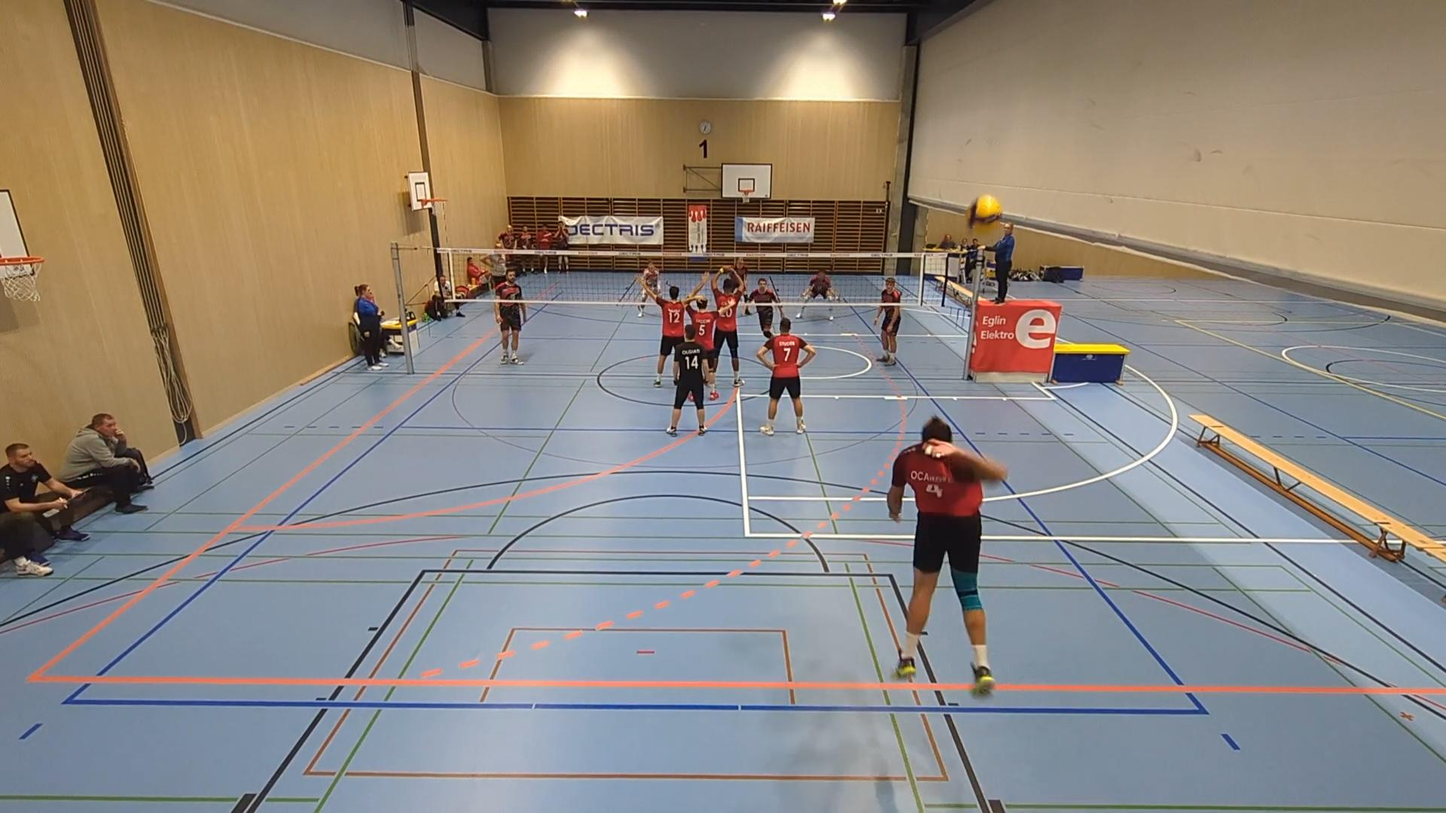battuta: (887, 416, 1009, 701)
